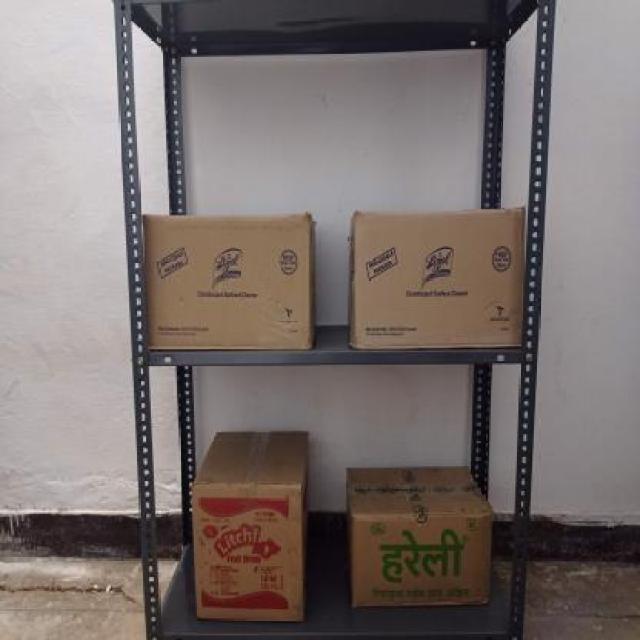box: (350, 210, 522, 352), (142, 215, 316, 352), (194, 483, 302, 623), (353, 510, 493, 606)
